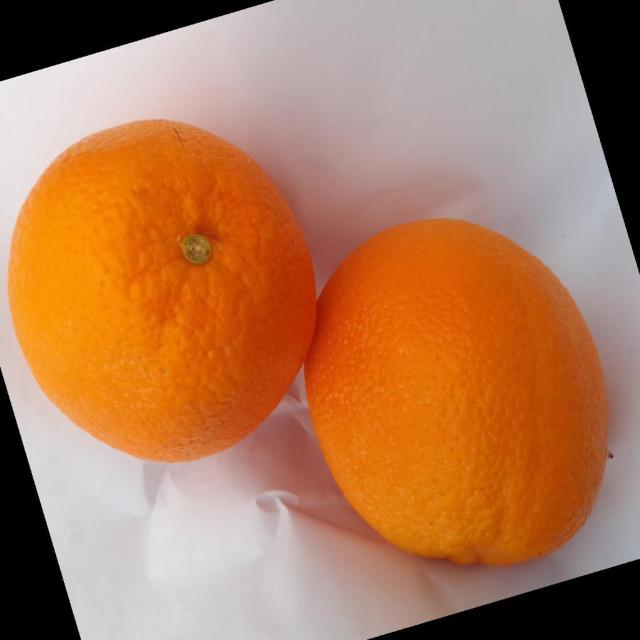fresh orange: (7, 116, 317, 464), (303, 216, 610, 567)
